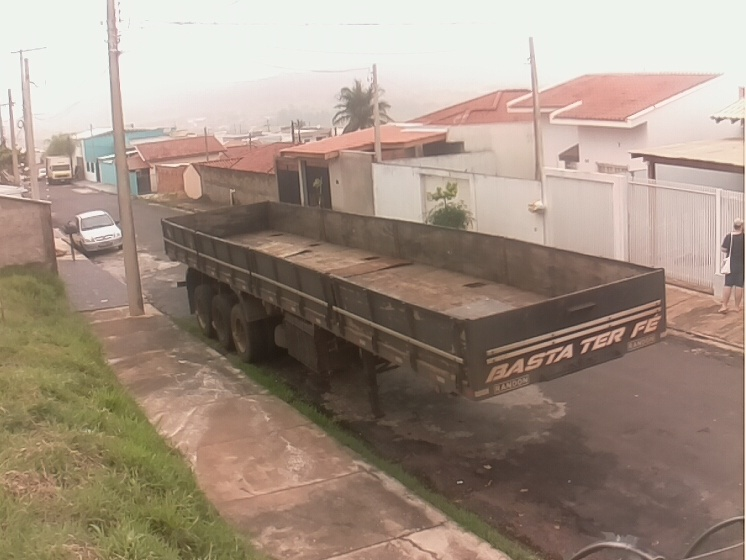person: (715, 217, 746, 315)
